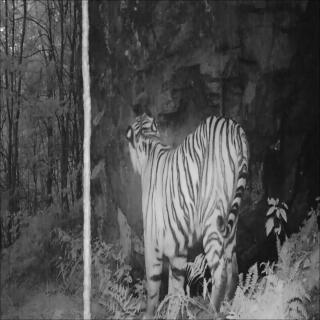Tiger: (103, 86, 260, 312)
